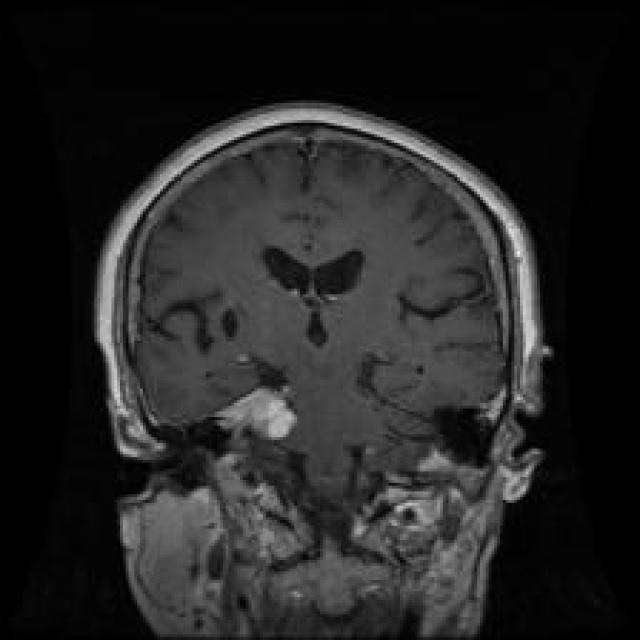meningioma_tumor: (192, 372, 316, 460)
